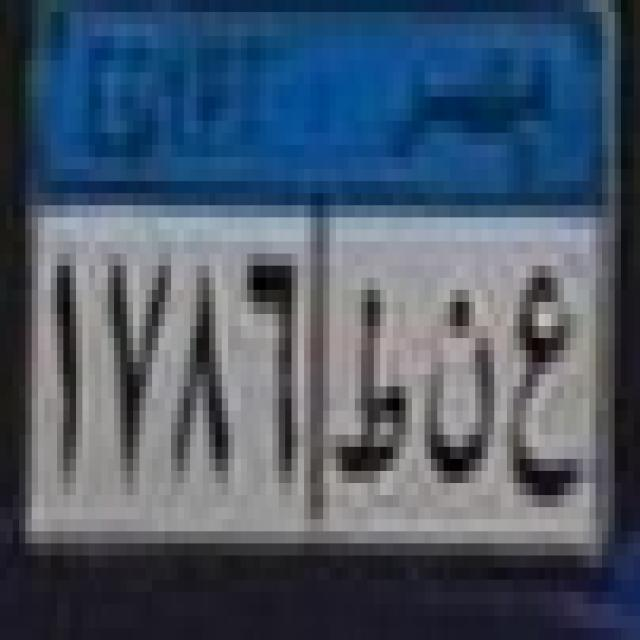1: (42, 232, 92, 498)
6: (237, 244, 306, 496)
7: (103, 247, 174, 501)
8: (168, 257, 234, 493)
9: (504, 258, 578, 506)
Noon: (417, 272, 498, 496)
Taa: (337, 278, 414, 484)
